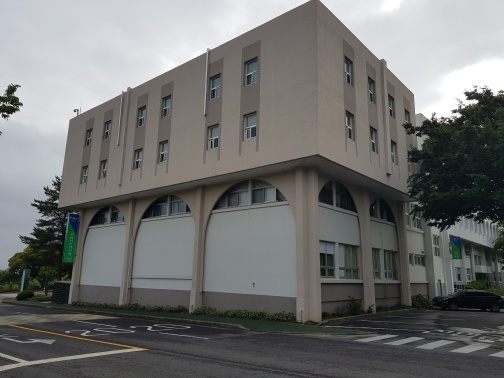Main Building of University: (47, 5, 440, 313), (74, 37, 266, 185), (329, 28, 419, 183), (84, 179, 291, 228), (312, 172, 400, 237), (57, 206, 80, 267)
